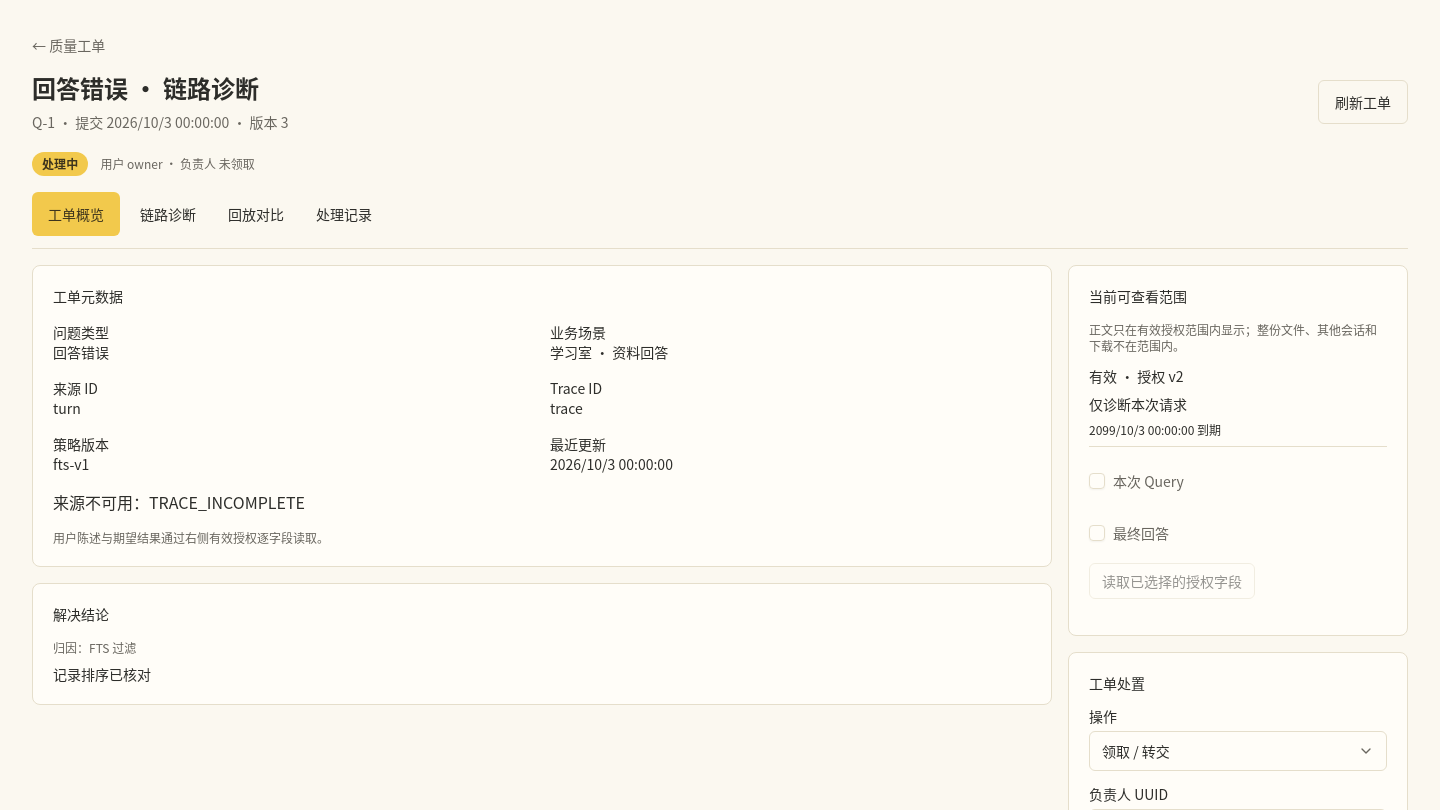
it: 管理员质量视图 › 后台事件动作和解决归因显示中文标签
Expected: the text "归因：FTS 过滤" is shown, x1=53 y1=639 x2=136 y2=656
Click the button "处理记录" at (344, 214), box x1=304 y1=192 x2=384 y2=236
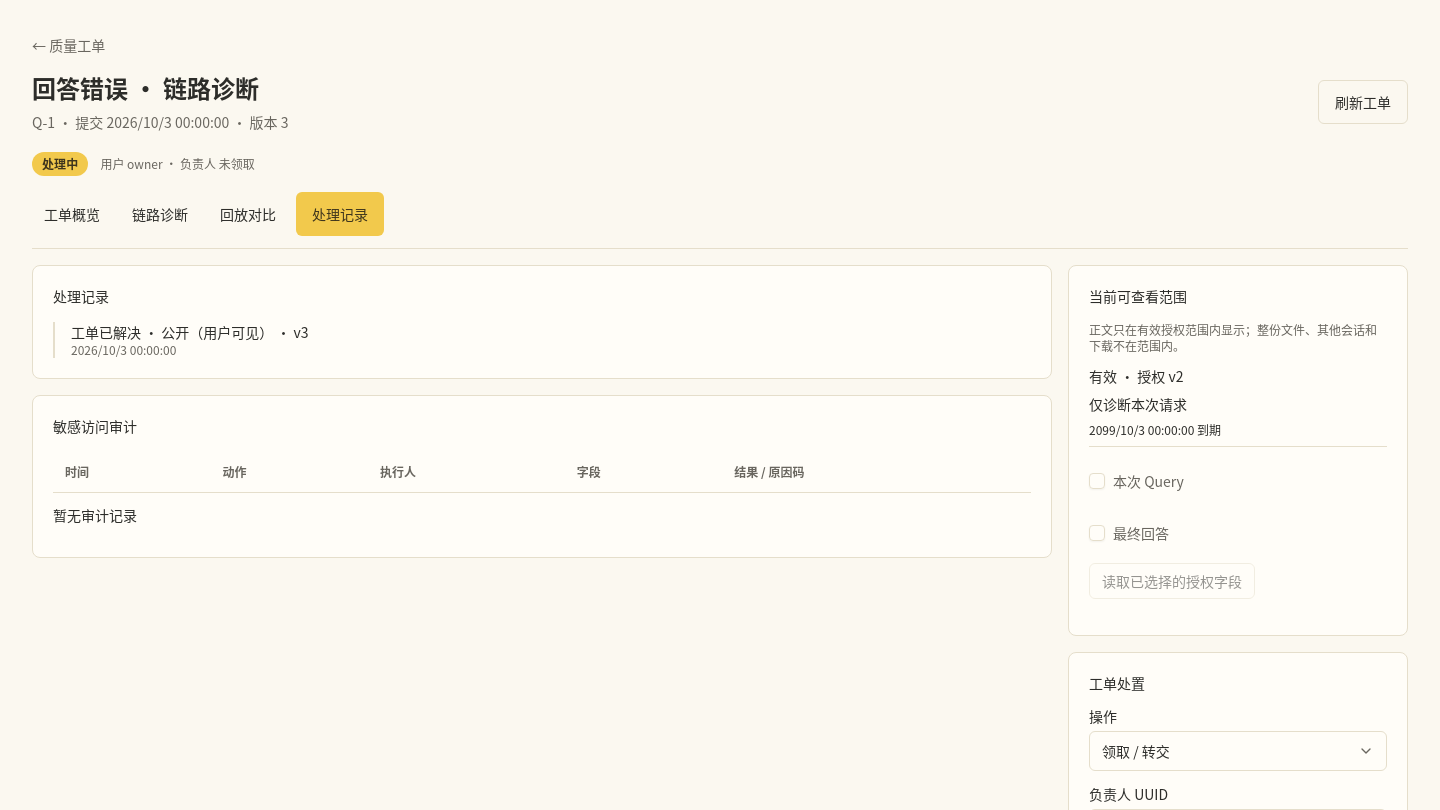
Expected: the text "工单已解决 · 公开（用户可见） · v3" is shown, x1=71 y1=322 x2=309 y2=342
